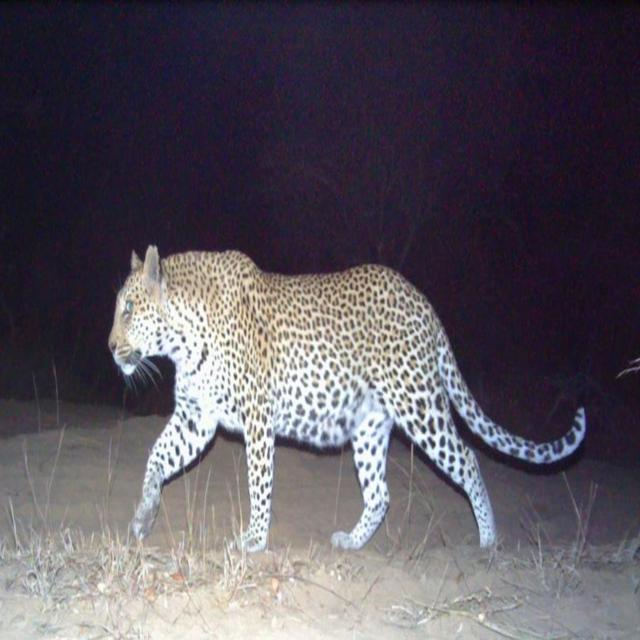Leopard: (108, 254, 598, 576)
